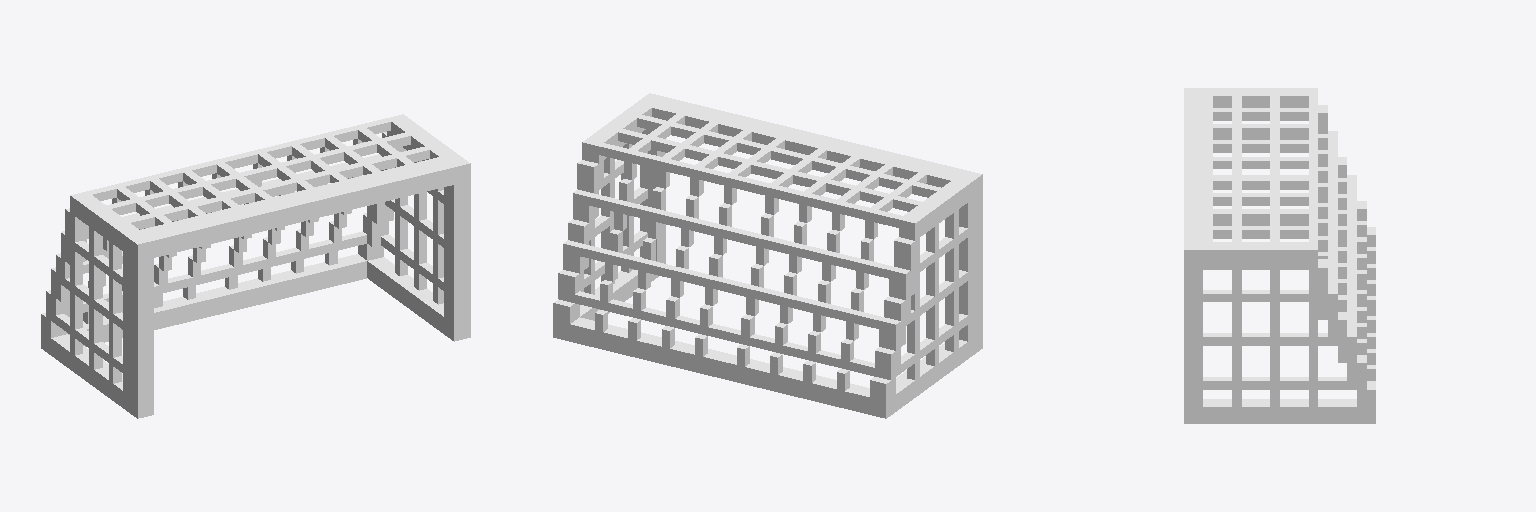
Rendered from soccergoal.obj.
3 views of the same model, side by side, from view 1: azimuth 30°, elevation 25°; view 2: azimuth 150°, elevation 25°; view 3: azimuth 270°, elevation 25° (orthographic).
Visible parts, largest first — view 1: soccergoal; view 2: soccergoal; view 3: soccergoal.
Part boxes in pixels (x1,y1,x2,y2): soccergoal: (41, 114, 470, 418); soccergoal: (553, 93, 982, 418); soccergoal: (1184, 88, 1375, 423).
Bounding box in the file's own units: 4 × 2 × 2.